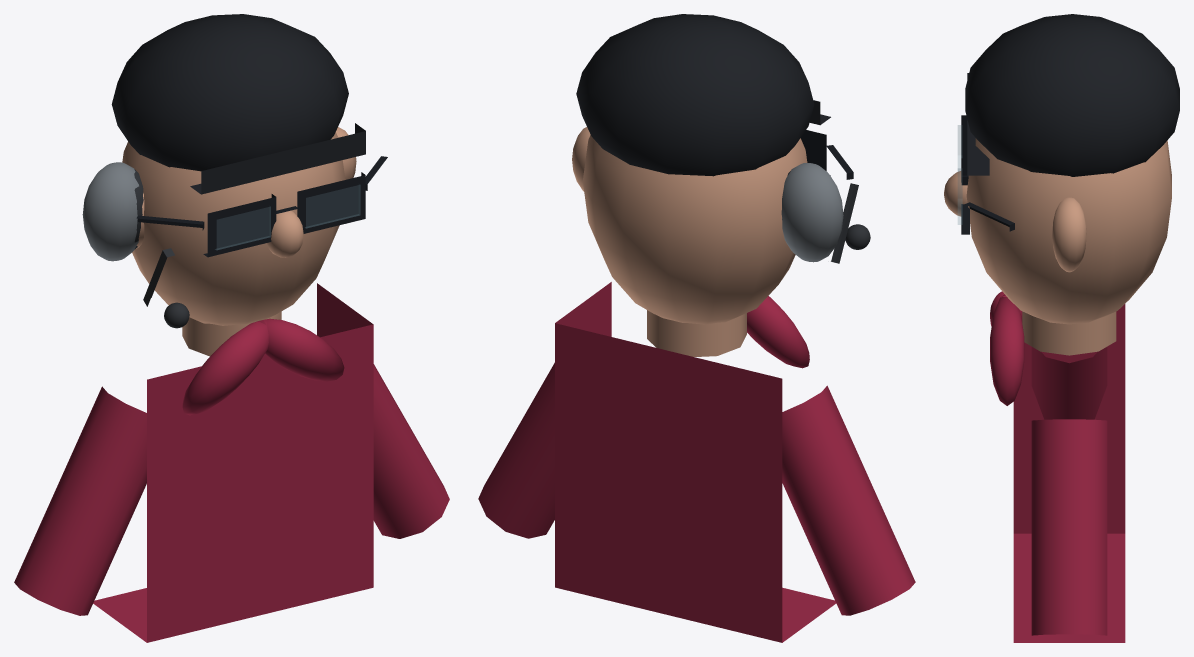
Rendered from stylized_person_avatar.glb.
3 renders of one model, left to right at view 1: azimuth 30°, elevation 25°; view 2: azimuth 150°, elevation 25°; view 3: azimuth 270°, elevation 25°, orthographic.
Visible parts, largest first — view 1: Burgundy polo, Short black hair, Head, Right sleeve, Left sleeve, Polo collar (×2), Rectangular glasses (×2), Headset cup, Hairline, Lens (×2), Neck, Nose; view 2: Burgundy polo, Short black hair, Head, Right sleeve, Left sleeve, Headset cup, Neck, Polo collar, Rectangular glasses, Microphone boom, Left ear; view 3: Short black hair, Head, Left sleeve, Burgundy polo, Right sleeve, Polo collar, Neck, Left ear, Hairline, Nose, Rectangular glasses, Glasses temple left.
Part boxes in pixels (x1,y1,x2,y2): Burgundy polo: (93,283,373,642); Short black hair: (111,14,348,171); Head: (122,132,345,325); Right sleeve: (14,386,146,615); Left sleeve: (373,364,449,538); Polo collar (×2): (182,318,344,415); Rectangular glasses (×2): (203,172,365,257); Headset cup: (82,162,138,261); Hairline: (190,123,365,194); Lens (×2): (215,184,360,250); Neck: (182,311,281,356); Nose: (267,210,303,257); Burgundy polo: (555,282,836,642); Short black hair: (576,14,814,176); Head: (582,135,807,324); Right sleeve: (782,385,915,615); Left sleeve: (478,362,554,538); Headset cup: (781,163,843,262); Neck: (647,310,746,356); Polo collar: (747,296,809,368); Rectangular glasses: (800,130,830,175); Microphone boom: (831,183,858,263); Left ear: (572,127,590,191); Short black hair: (965,14,1179,176); Head: (966,138,1171,324); Left sleeve: (1031,419,1107,635); Burgundy polo: (1013,304,1125,642); Right sleeve: (1031,347,1107,419); Polo collar: (990,294,1024,405); Neck: (1022,311,1116,355); Left ear: (1052,197,1086,272); Hairline: (967,73,989,175); Nose: (944,171,967,216); Rectangular glasses: (961,158,969,234); Glasses temple left: (965,202,1014,231).
Bounding box in the file's own units: 3.03 × 3.86 × 1.48.
